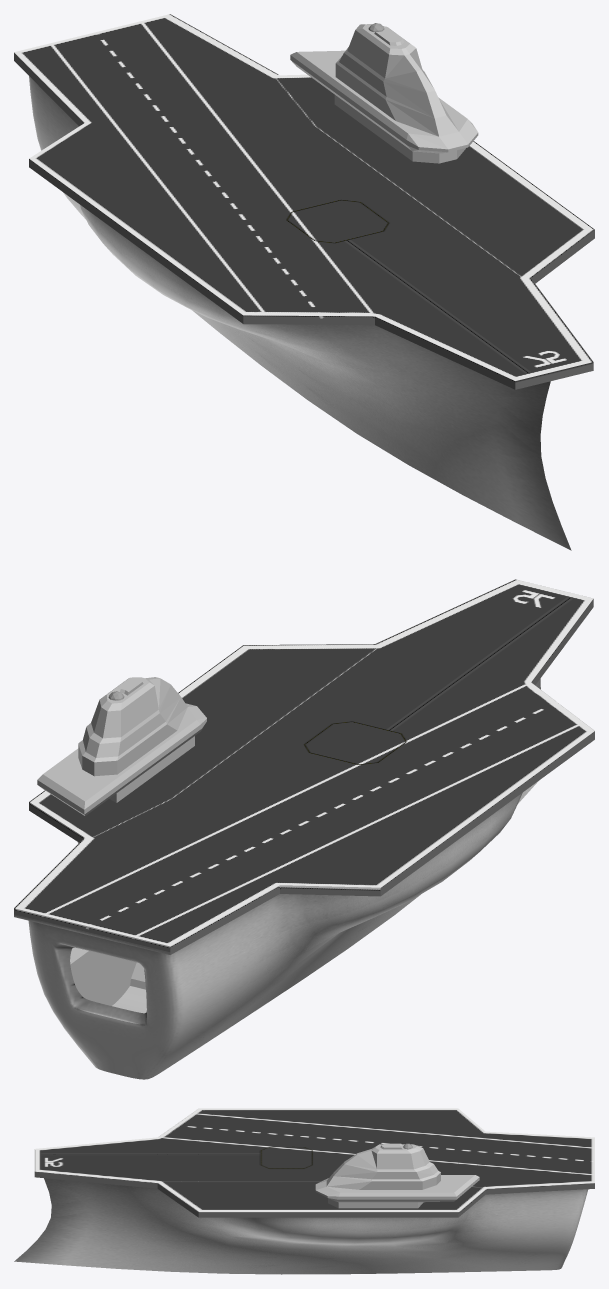
Rendered from carrier-translated.obj.
3 renders of one model, top to bottom at view 1: azimuth 30°, elevation 25°; view 2: azimuth 150°, elevation 25°; view 3: azimuth 270°, elevation 25°, orthographic. The views are drawn at different scales.
Visible parts, largest first — view 1: Deck, Hull, DeckTower; view 2: Deck, Hull, DeckTower, DockingBay; view 3: Deck, Hull, DeckTower.
Part boxes in pixels (<box>): Deck: <box>14,14,594,389</box>; Hull: <box>29,76,571,550</box>; DeckTower: <box>290,24,478,163</box>; Deck: <box>14,579,594,954</box>; Hull: <box>28,679,540,1079</box>; DeckTower: <box>37,677,206,815</box>; DockingBay: <box>70,947,146,1013</box>; Deck: <box>34,1108,594,1217</box>; Hull: <box>14,1178,588,1274</box>; DeckTower: <box>315,1143,479,1208</box>.
Bounding box in the file's own units: 61.92 × 43.34 × 146.
8 materials, 2 textured.
